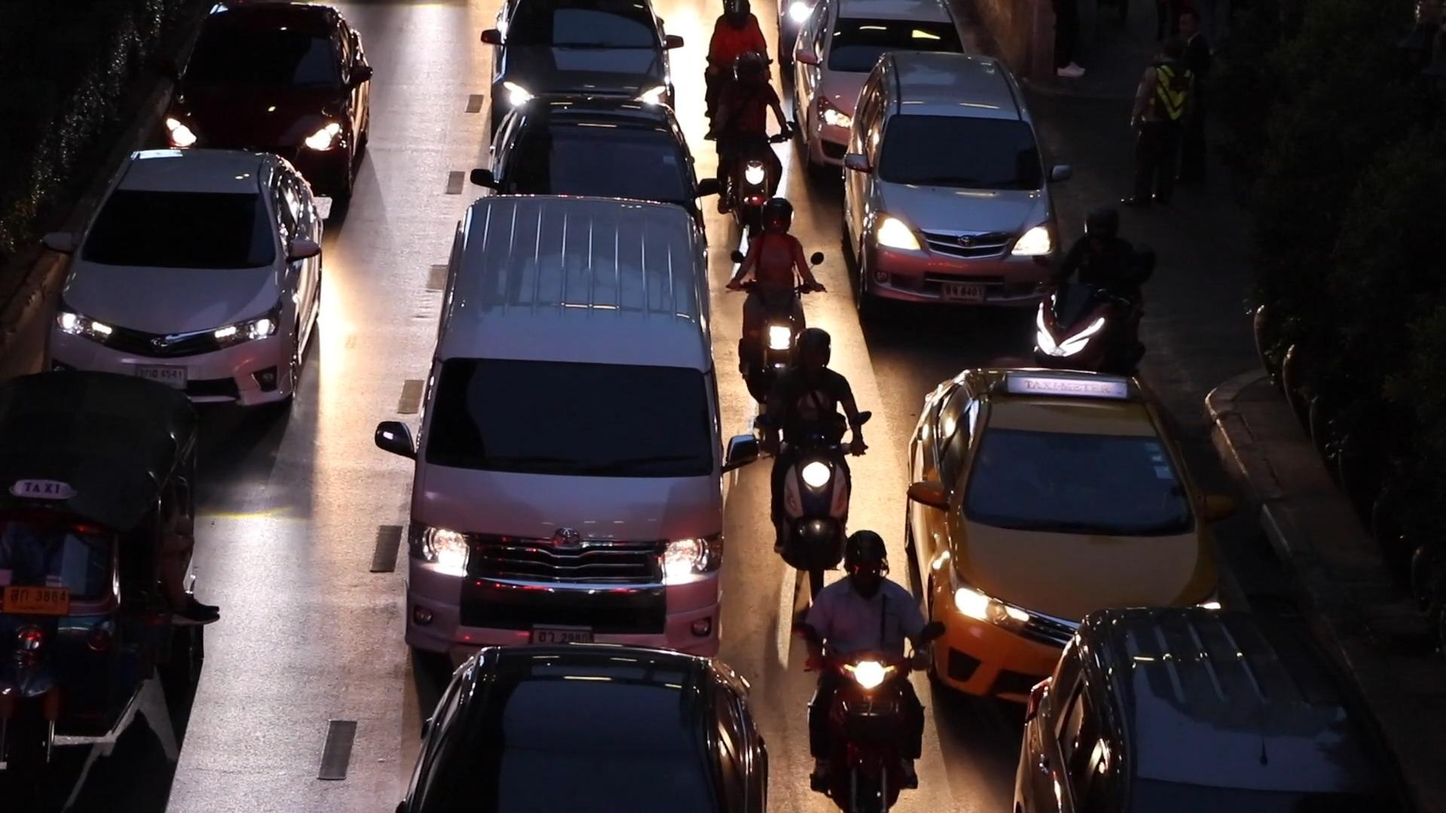driver: (790, 528, 946, 813), (756, 326, 872, 602), (726, 196, 828, 429), (1031, 201, 1155, 377), (711, 48, 794, 249)
helmet: (842, 529, 889, 600), (1082, 203, 1122, 252), (792, 327, 832, 375), (732, 48, 767, 96), (760, 197, 795, 239), (722, 0, 752, 31)
